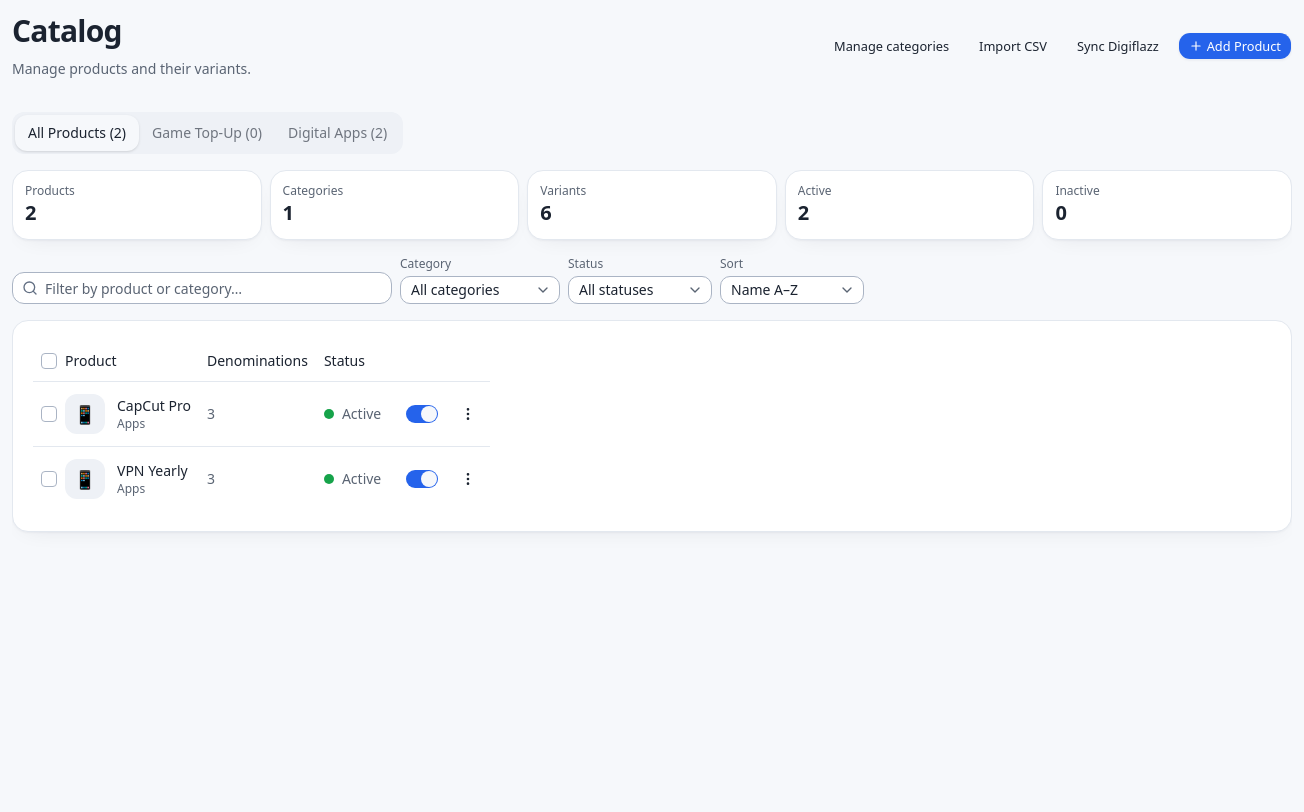
Test case: CatalogPage › select-all selects every product currently passing the filters
Expected: the text "CapCut Pro" is shown, x1=117 y1=396 x2=191 y2=416
Click the checkbox named "select all products". click: (49, 361)
box: x1=41 y1=353 x2=57 y2=369
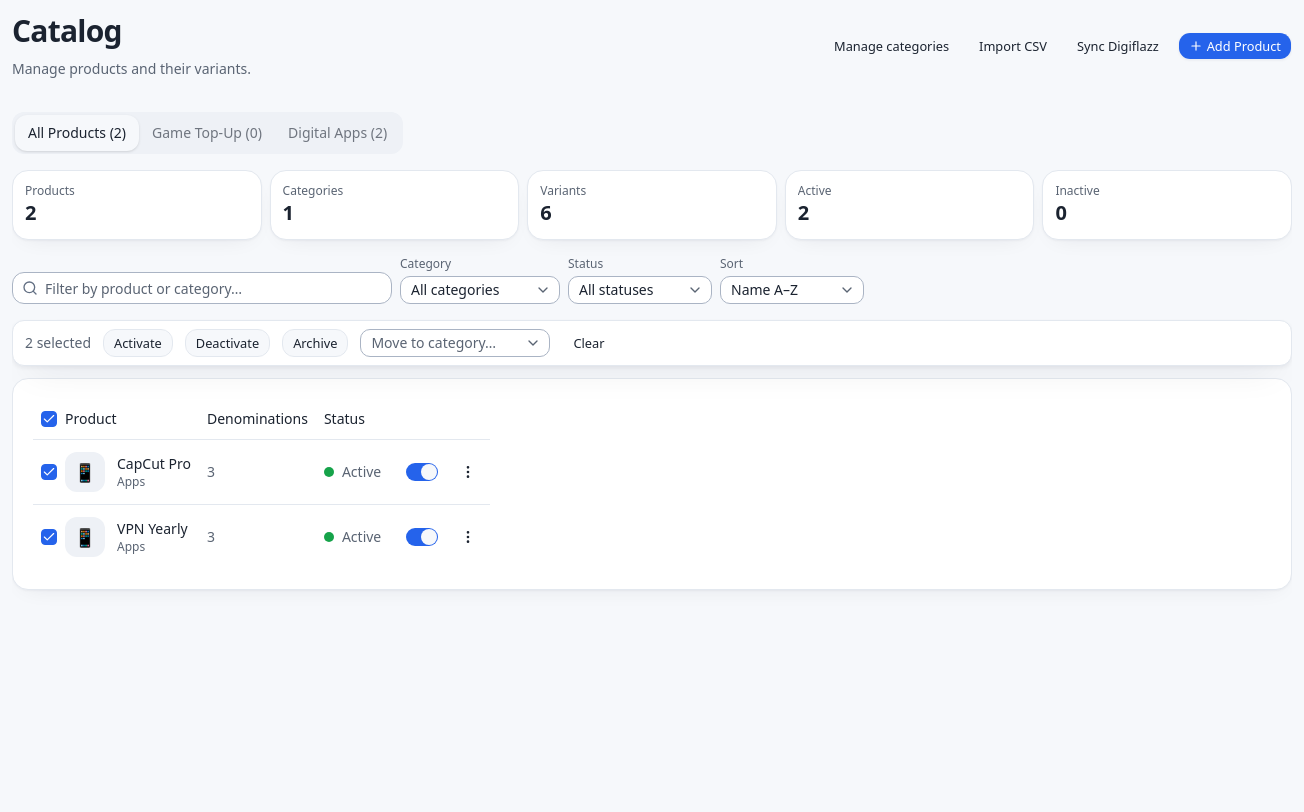
Result: the text "2 selected" is shown at x1=25 y1=333 x2=91 y2=353
